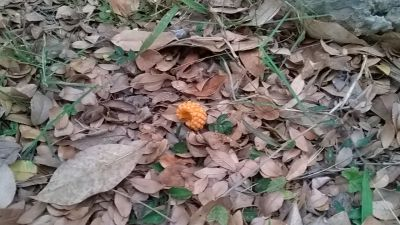eggs: (176, 100, 209, 131)
